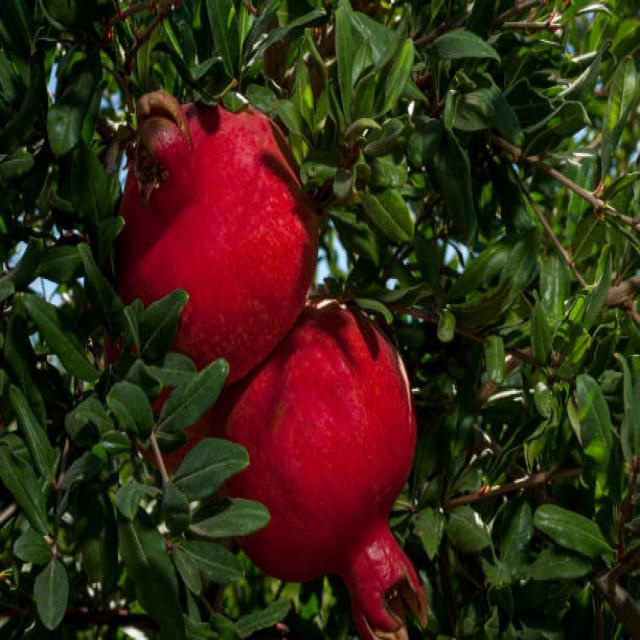Ripe: (222, 298, 428, 640), (117, 86, 321, 375)
